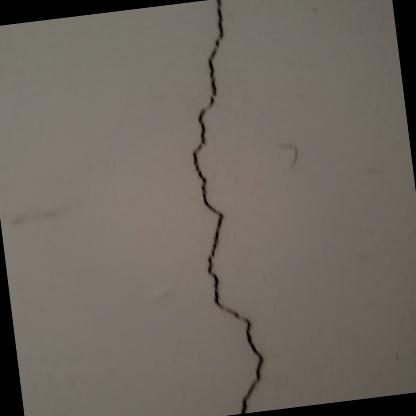crack: (193, 0, 262, 414)
